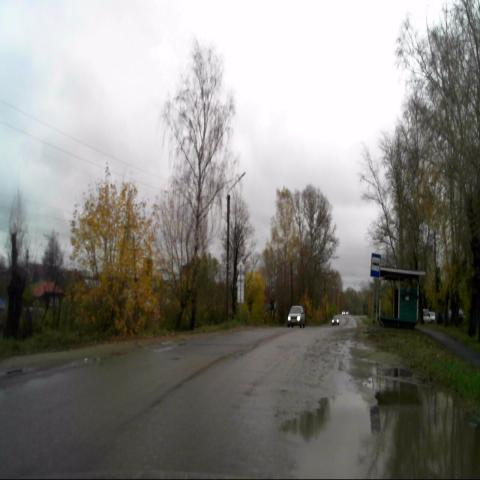5_16: (370, 251, 381, 279)
